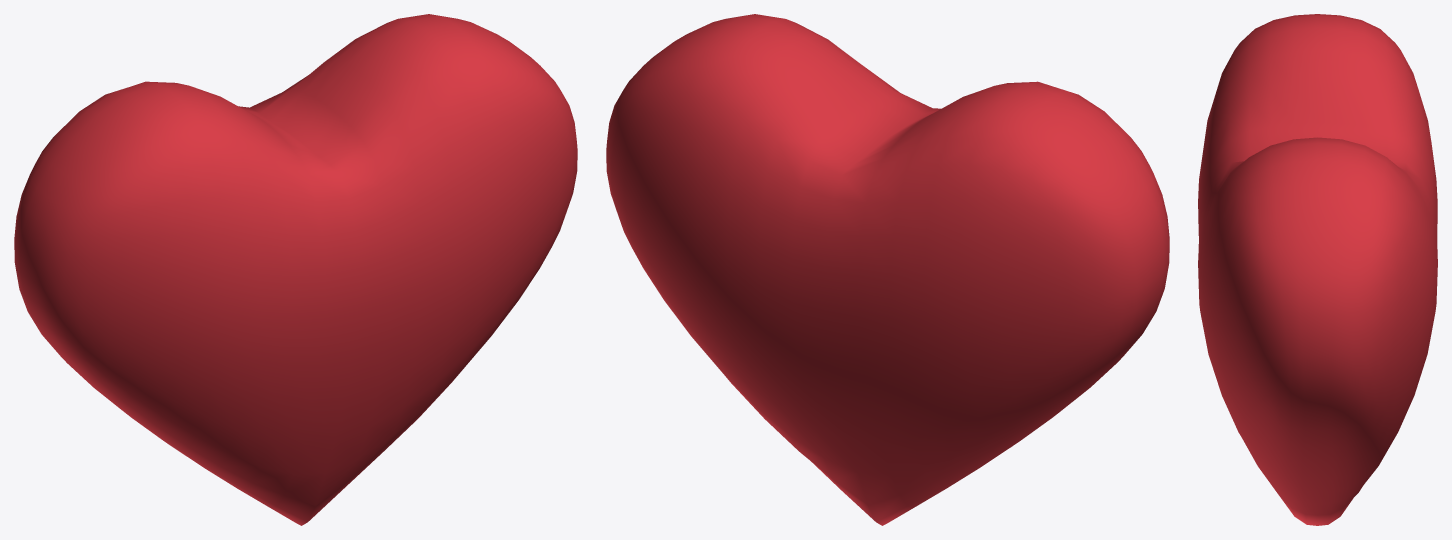
The model's file is heart.fbx.
3 views of the same model, side by side, from view 1: azimuth 30°, elevation 25°; view 2: azimuth 150°, elevation 25°; view 3: azimuth 270°, elevation 25° (orthographic). The views are drawn at different scales.
Parts seen in each view (by area): view 1: heart; view 2: heart; view 3: heart.
Boxes of the visible parts, x1=… form: heart: x1=14, y1=14, x2=577, y2=525; heart: x1=606, y1=14, x2=1169, y2=525; heart: x1=1198, y1=14, x2=1437, y2=525.
Bounding box in the file's own units: 204 × 168 × 82.88.
